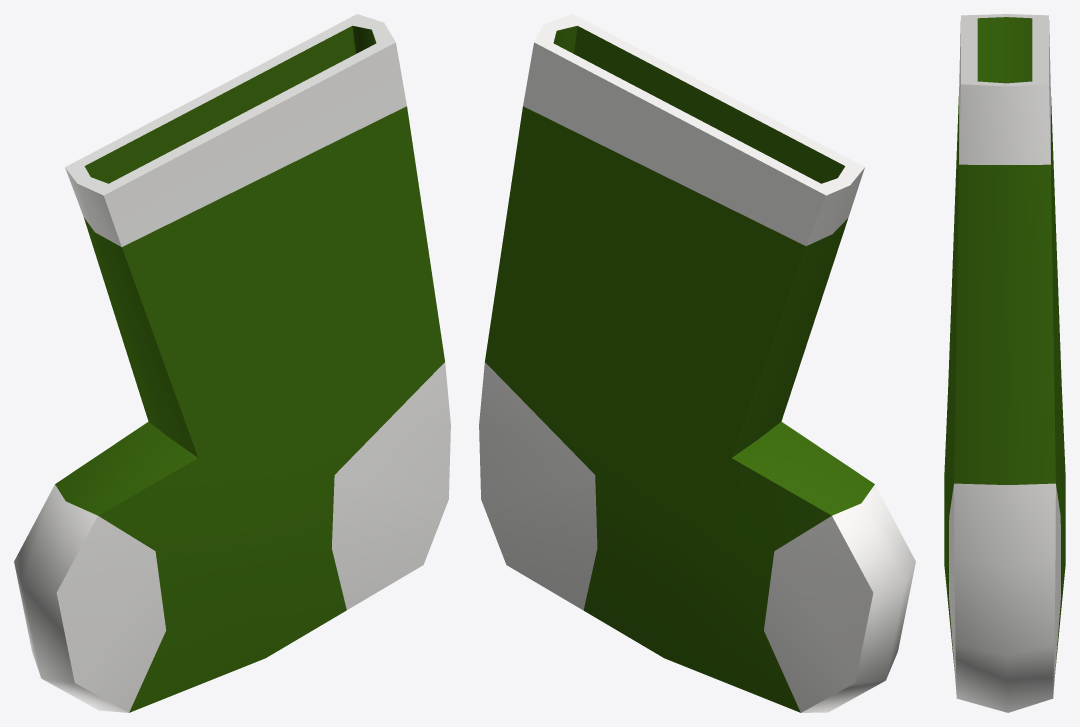
Rendered from Sock_2.glb.
The picture shows the model from 3 angles, left to right: view 1: azimuth 30°, elevation 25°; view 2: azimuth 150°, elevation 25°; view 3: azimuth 270°, elevation 25°; orthographic projection. The views are drawn at different scales.
Parts seen in each view (by area): view 1: Sock_2; view 2: Sock_2; view 3: Sock_2.
Boxes of the visible parts, x1,y1,x2,y2 form: Sock_2: (14, 14, 450, 712); Sock_2: (479, 14, 915, 712); Sock_2: (944, 14, 1065, 712).
Size of the model in its own units: 0.236 by 0.3345 by 0.0523.
1 material, 1 textured.
